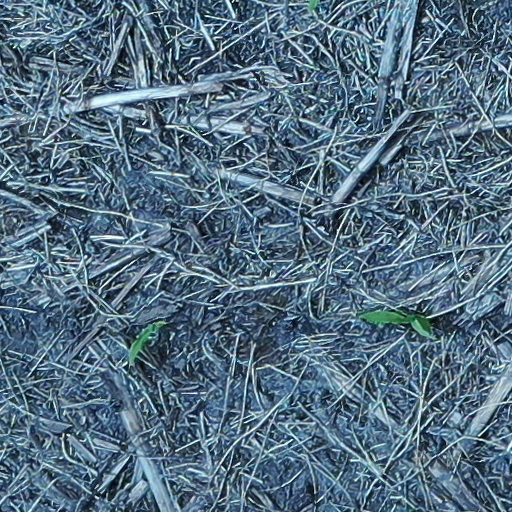planta: (360, 310, 429, 335), (129, 321, 165, 363)
